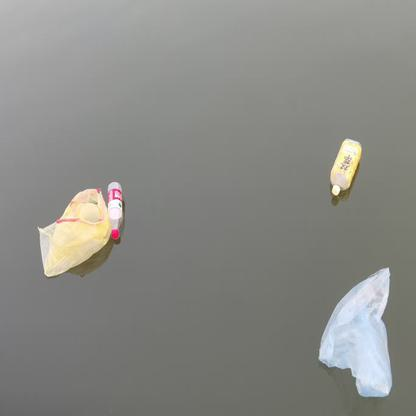plastic bag: (318, 267, 393, 398), (38, 187, 110, 278)
plastic bottle: (330, 135, 362, 196), (107, 181, 124, 240)
